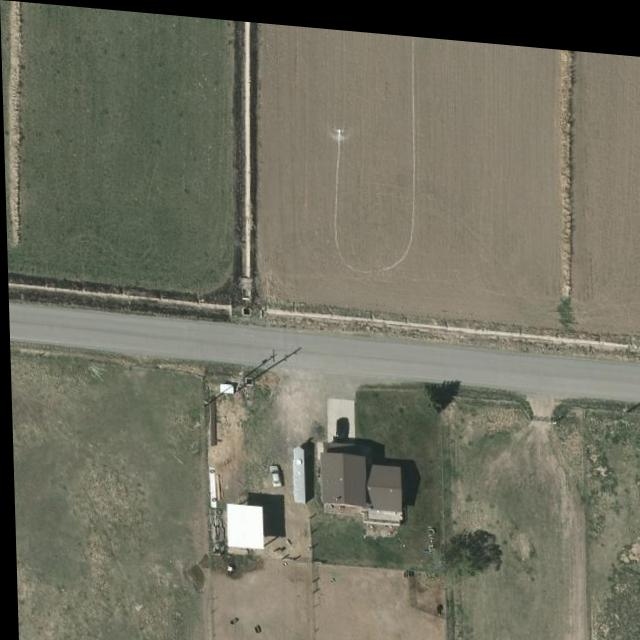vehicle: (266, 461, 281, 484), (334, 413, 345, 439)
